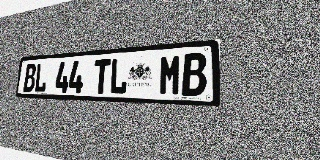4: (68, 60, 84, 93), (55, 61, 70, 93)
B: (182, 52, 207, 96), (23, 64, 37, 92)
L: (109, 58, 128, 94), (34, 63, 48, 92)
M: (159, 54, 182, 96)
T: (93, 59, 111, 94)
